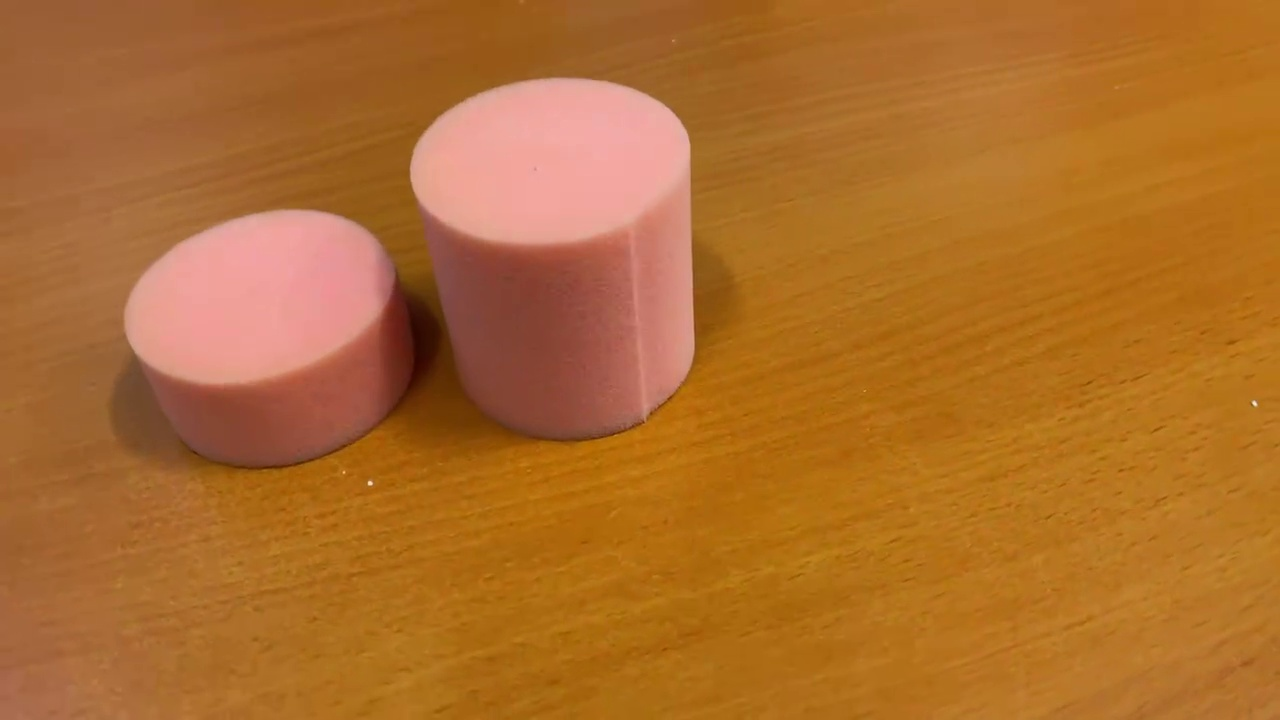Clyinder_short: (117, 201, 424, 474)
Cylinder: (407, 73, 702, 448)
